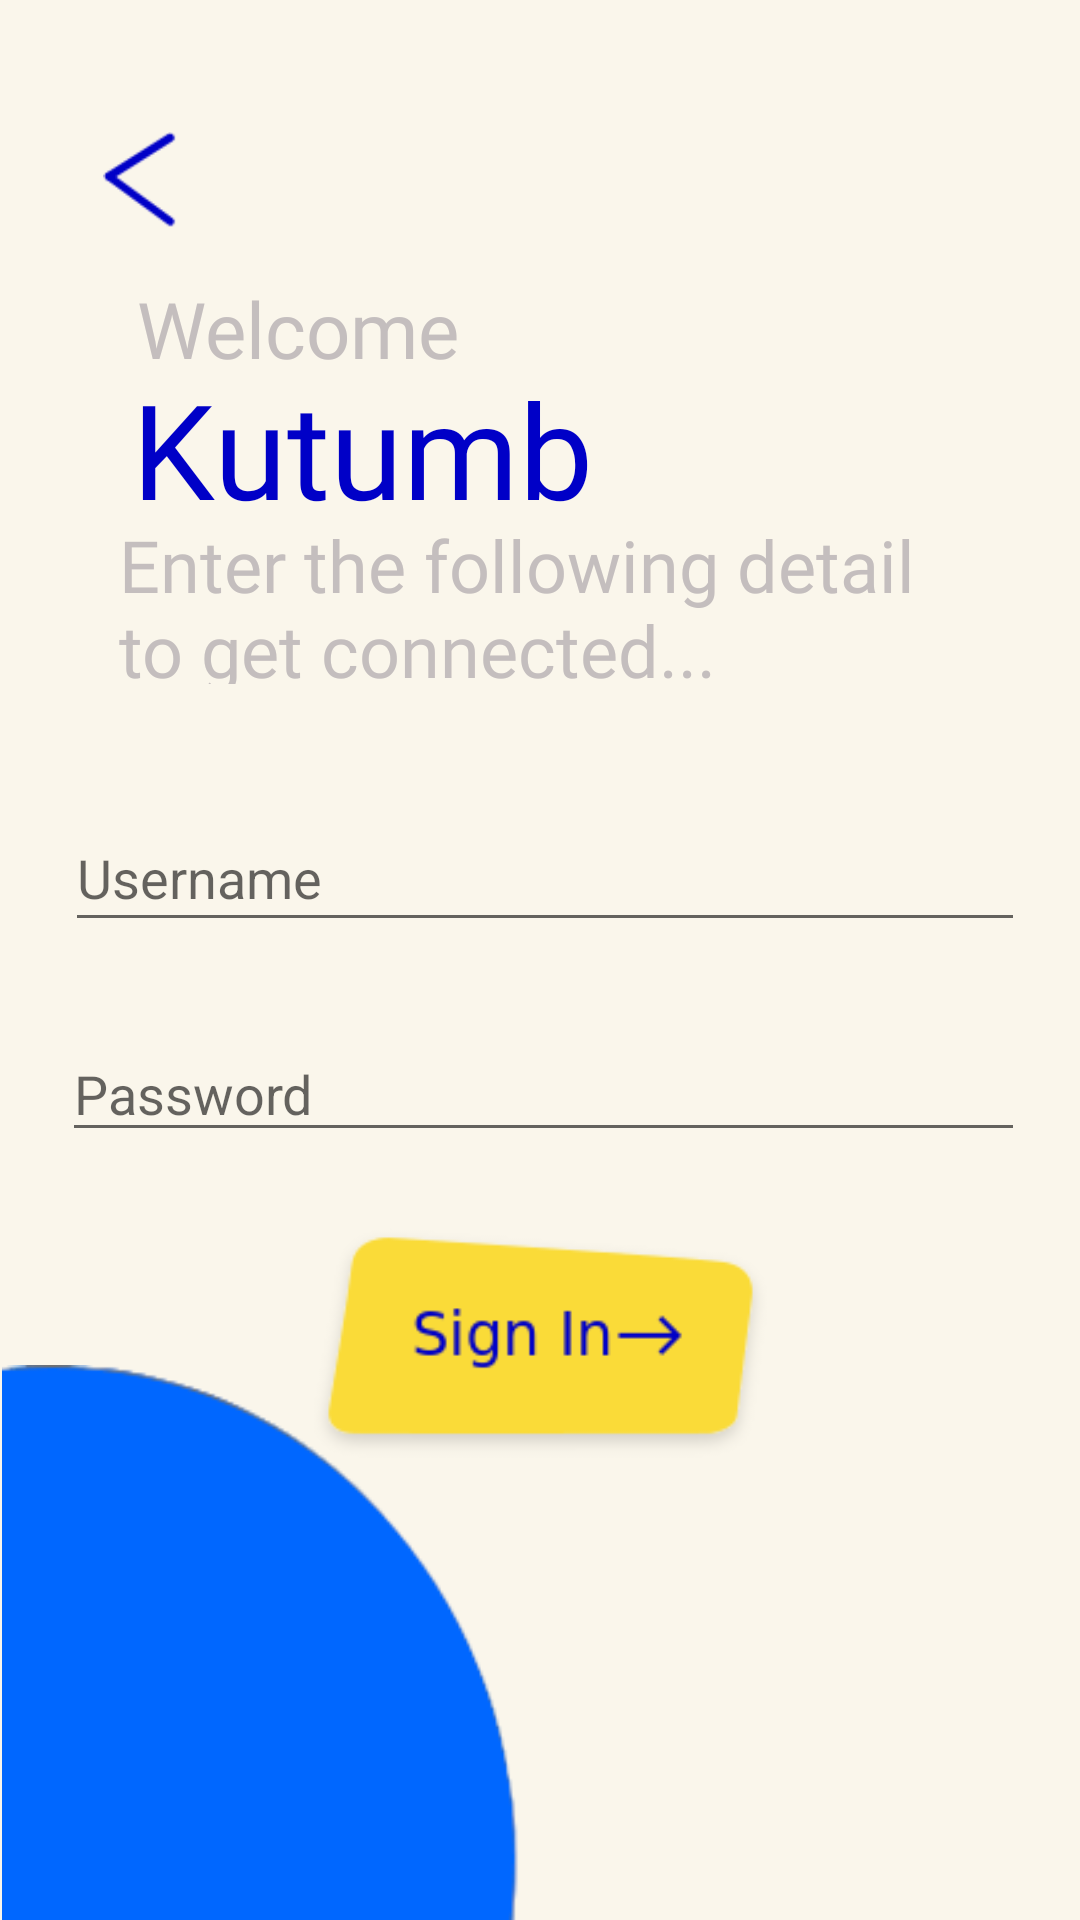

Icons on this 1080w x 1920h Android screen, each with its box as bbox=[x1, y1, x2, y2]:
back: bbox=[103, 132, 175, 227]
